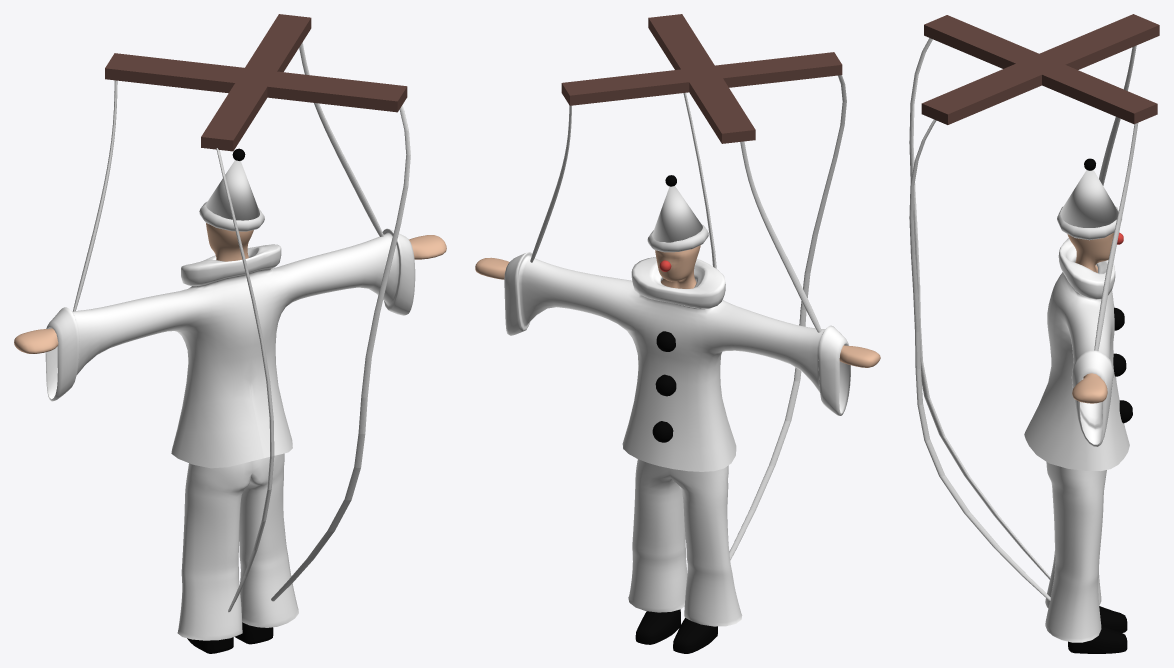
Rendered from puppet 1.fbx.
3 views of the same model, side by side, from view 1: azimuth 30°, elevation 25°; view 2: azimuth 150°, elevation 25°; view 3: azimuth 270°, elevation 25° (orthographic). The views are drawn at different scales.
Visible parts, largest first — view 1: Top, Pants, Puppet Controller, Cube.002, Body, Hat, Shoes, Hat Ring; view 2: Top, Pants, Puppet Controller, Cube.002, Body, Shoes, Hat, Shirt Balls, Hat Ring; view 3: Top, Puppet Controller, Pants, Cube.002, Hat, Body, Shoes, Shirt Balls, Hat Ring.
Boxes of the visible parts, x1,y1,x2,y2 form: Top: (45, 228, 415, 468); Pants: (177, 453, 298, 640); Puppet Controller: (105, 14, 407, 151); Cube.002: (73, 42, 410, 612); Body: (14, 223, 446, 353); Hat: (206, 160, 259, 220); Shoes: (187, 622, 273, 653); Hat Ring: (199, 201, 264, 231); Top: (504, 252, 850, 471); Pants: (628, 459, 742, 626); Puppet Controller: (561, 14, 842, 143); Cube.002: (530, 75, 846, 559); Body: (475, 245, 880, 367); Shoes: (635, 609, 717, 653); Hat: (652, 186, 702, 242); Shirt Balls: (652, 331, 676, 442); Hat Ring: (647, 224, 708, 252); Top: (1024, 238, 1129, 470); Puppet Controller: (921, 14, 1159, 124); Pants: (1045, 462, 1106, 642); Cube.002: (909, 38, 1138, 601); Hat: (1060, 170, 1118, 227); Body: (1067, 233, 1113, 403); Shoes: (1068, 606, 1127, 653); Shirt Balls: (1113, 307, 1132, 423); Hat Ring: (1057, 206, 1121, 240).
Bounding box in the file's own units: 1659 × 2164 × 854.
